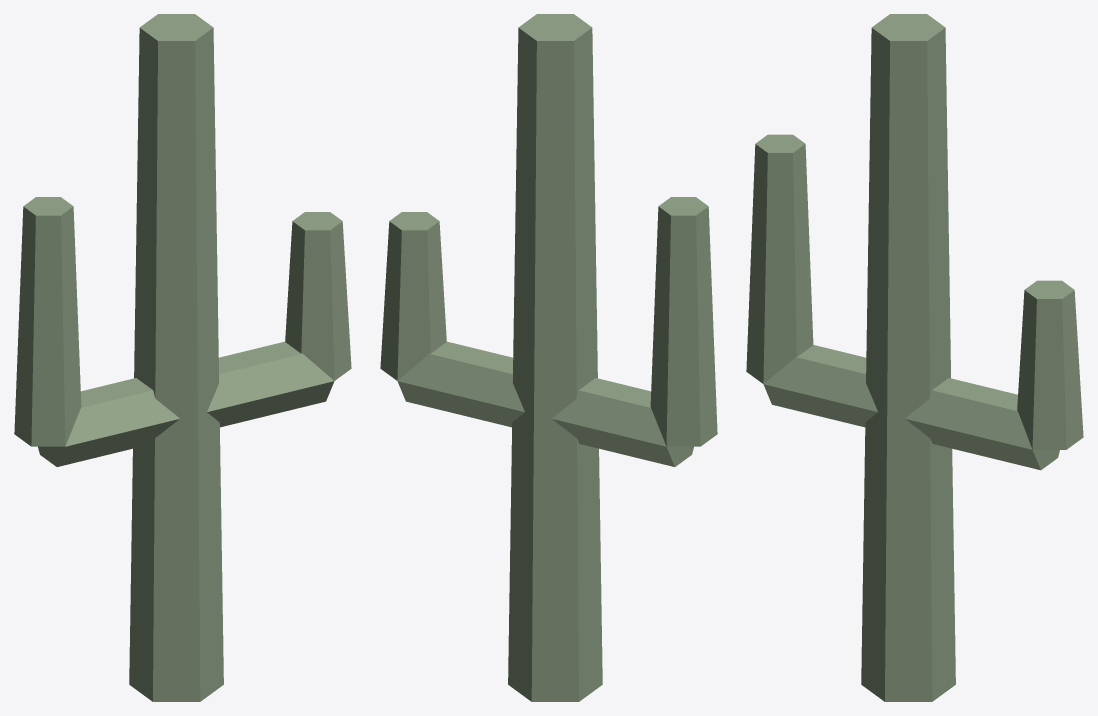
The picture shows the model from 3 angles, left to right: view 1: azimuth 30°, elevation 25°; view 2: azimuth 150°, elevation 25°; view 3: azimuth 330°, elevation 25°; orthographic projection.
Bounding box in the file's own units: 2.5 × 4.9 × 0.64.
